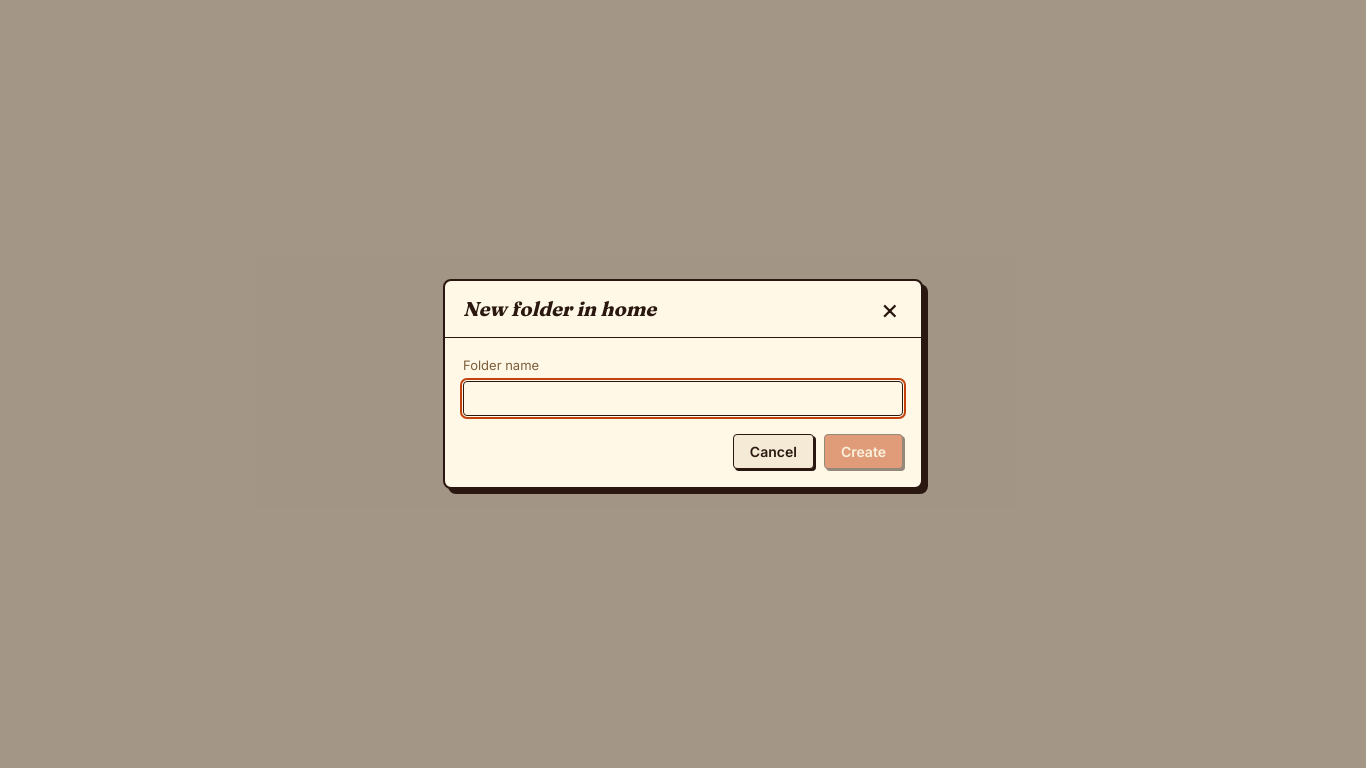
Test: NewFolderDialog › surfaces 409 conflict inline and stays open
The image size is (1366, 768).
Type "dup" into the field labelled "Folder name". click: (683,399)
box: [463,381,903,416]
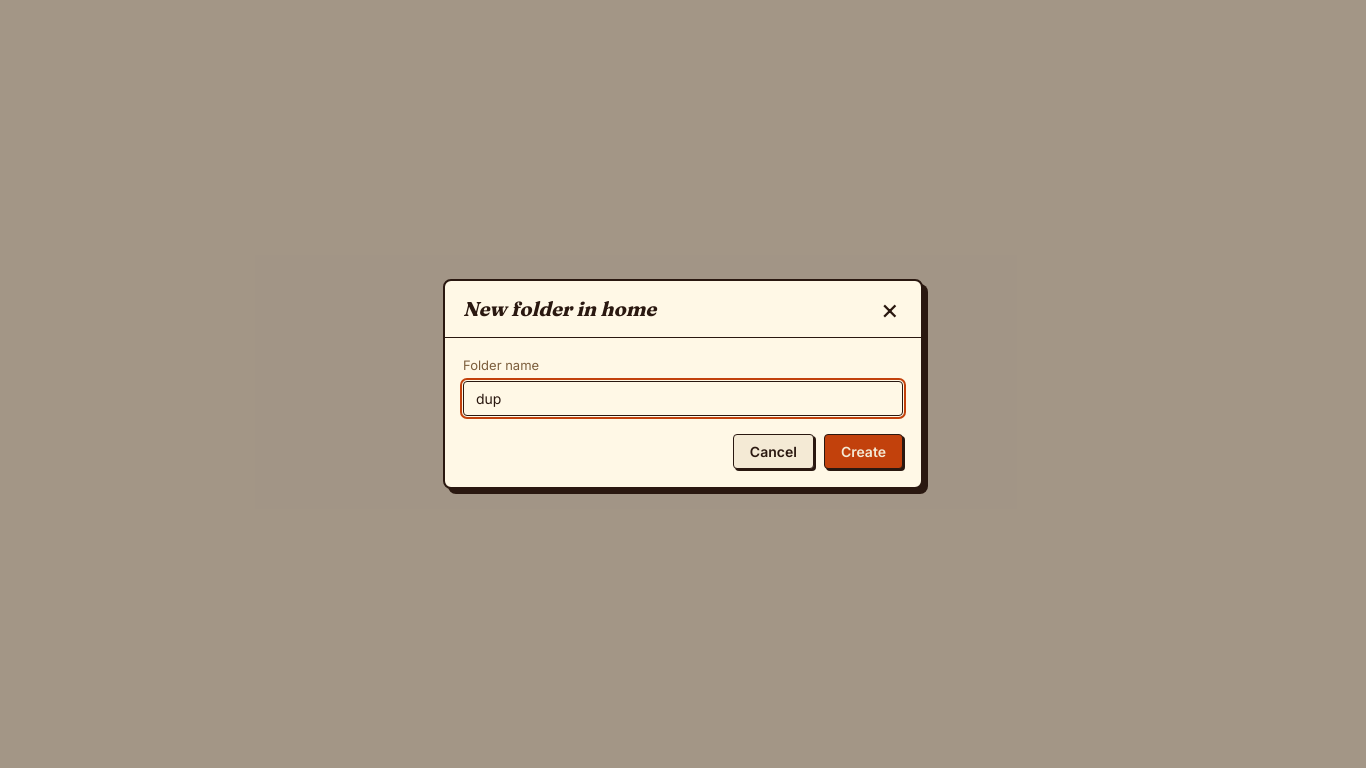
Click the button "Create". click: (863,452)
box: [824,434,903,469]
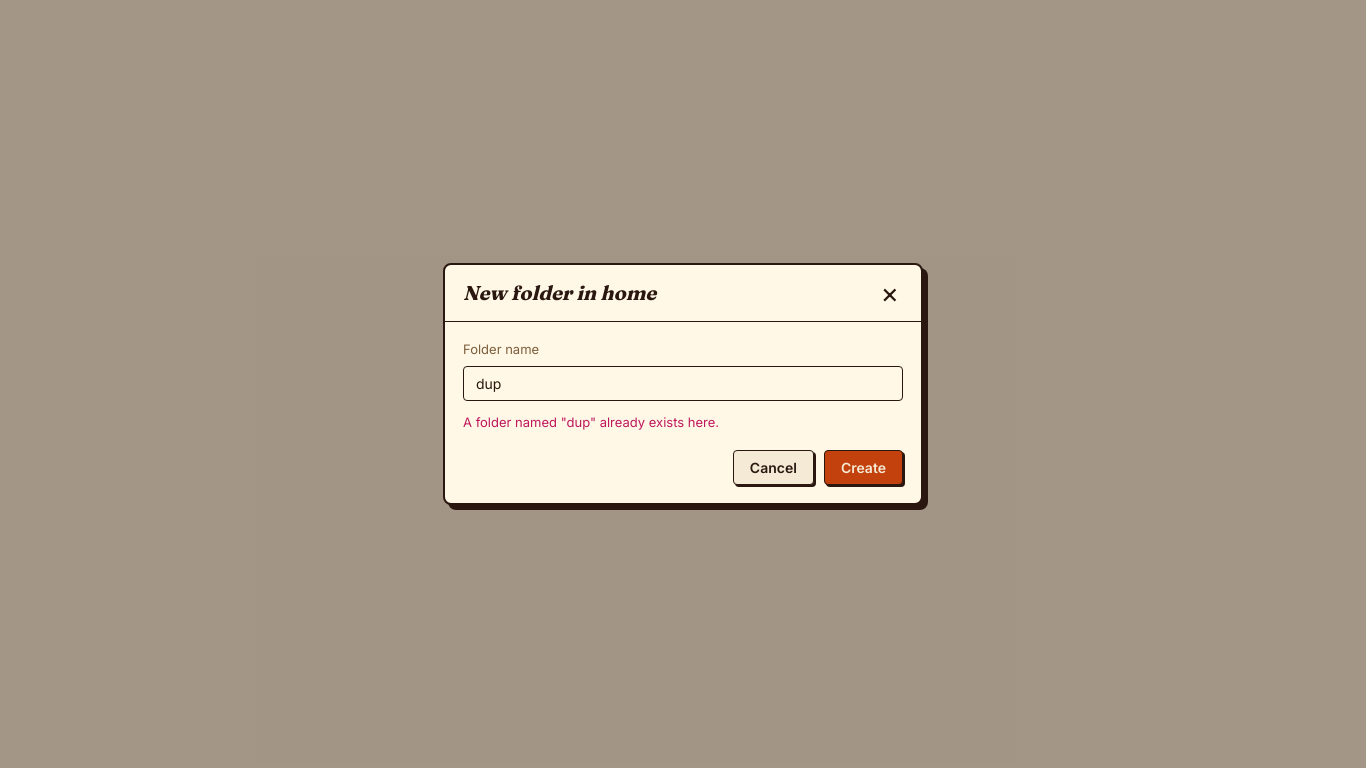
Result: the text "A folder named \"dup\" already exists here." is shown at [463,414,719,430]
